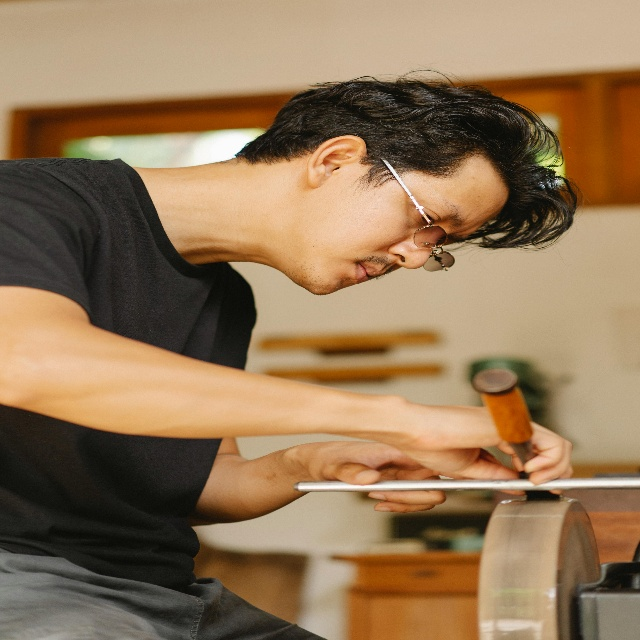Gafas: (379, 153, 455, 274)
Sin_guantes: (395, 401, 574, 496), (303, 438, 447, 515)
